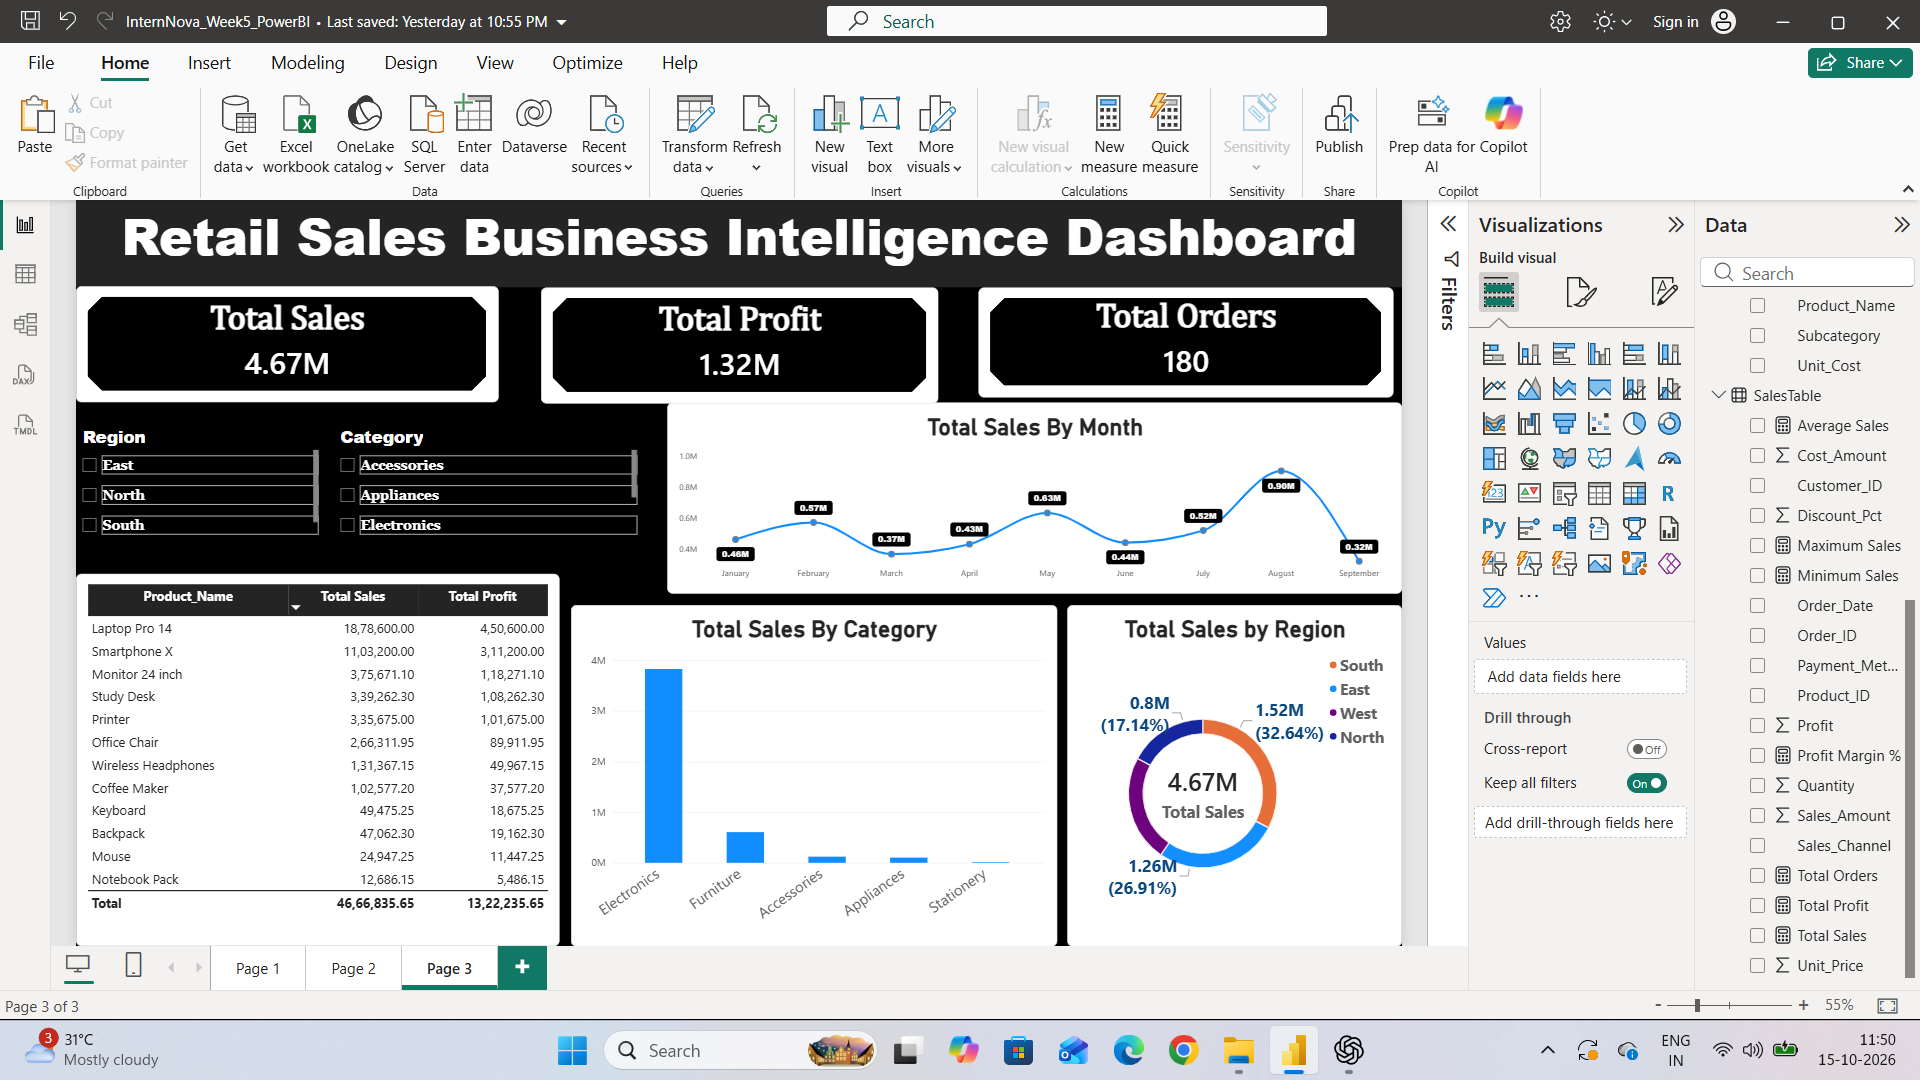

The page's visual inventory and layout, read from the dashboard file:
{"tool":"powerbi","page":{"name":"Page 3","canvas":[1920,1080],"ordinal":2},"visuals":[{"type":"clusteredColumnChart","title":"Total Sales By Category","fields":{"Category":["ProductsTable.Category"],"Y":["SalesTable.Total Sales"]},"box":[716.6,586.3,704,494],"z":0},{"type":"lineChart","title":"Total Sales By Month","fields":{"Category":["DateTable.Month_Name"],"Y":["SalesTable.Total Sales"]},"box":[856,293.2,1064.1,276.9],"z":1000},{"type":"donutChart","fields":{"Category":["CustomersTable.Region"],"Y":["SalesTable.Total Sales"]},"box":[1435.1,586.3,485,494],"z":2000},{"type":"tableEx","fields":{"Values":["ProductsTable.Product_Name","SalesTable.Total Sales","SalesTable.Total Profit"]},"box":[0,541.1,700.3,539.3],"z":3000},{"type":"slicer","fields":{"Values":["CustomersTable.Region"]},"box":[1.8,325.7,349.3,171.9],"z":4000},{"type":"slicer","fields":{"Values":["ProductsTable.Category"]},"box":[374.6,325.7,437.9,159.3],"z":5000},{"type":"textbox","box":[0,0,1920.1,126.7],"z":6000},{"type":"cardVisual","fields":{"Data":["SalesTable.Total Profit"]},"box":[673.2,126.7,575.5,168.3],"z":7000},{"type":"cardVisual","fields":{"Data":["SalesTable.Total Sales"]},"box":[0,124.9,611.7,168.3],"z":8000},{"type":"cardVisual","fields":{"Data":["SalesTable.Total Orders"]},"box":[1306.6,126.7,600.8,159.3],"z":9000}]}

Visuals, with their boxes on the page's 1920x1080 design canvas (x1, y1, x2, y2). These are canvas units, not pixel positions in the 1920x1080 screenshot, which may show the page scaled, cropped or inside an application window:
"Total Sales By Category" clusteredColumnChart: [x1=717, y1=586, x2=1421, y2=1080]
"Total Sales By Month" lineChart: [x1=856, y1=293, x2=1920, y2=570]
donutChart - CustomersTable.Region x SalesTable.Total Sales: [x1=1435, y1=586, x2=1920, y2=1080]
tableEx - ProductsTable.Product_Name x SalesTable.Total Sales: [x1=0, y1=541, x2=700, y2=1080]
slicer - CustomersTable.Region: [x1=2, y1=326, x2=351, y2=498]
slicer - ProductsTable.Category: [x1=375, y1=326, x2=812, y2=485]
textbox: [x1=0, y1=0, x2=1920, y2=127]
cardVisual - SalesTable.Total Profit: [x1=673, y1=127, x2=1249, y2=295]
cardVisual - SalesTable.Total Sales: [x1=0, y1=125, x2=612, y2=293]
cardVisual - SalesTable.Total Orders: [x1=1307, y1=127, x2=1907, y2=286]
